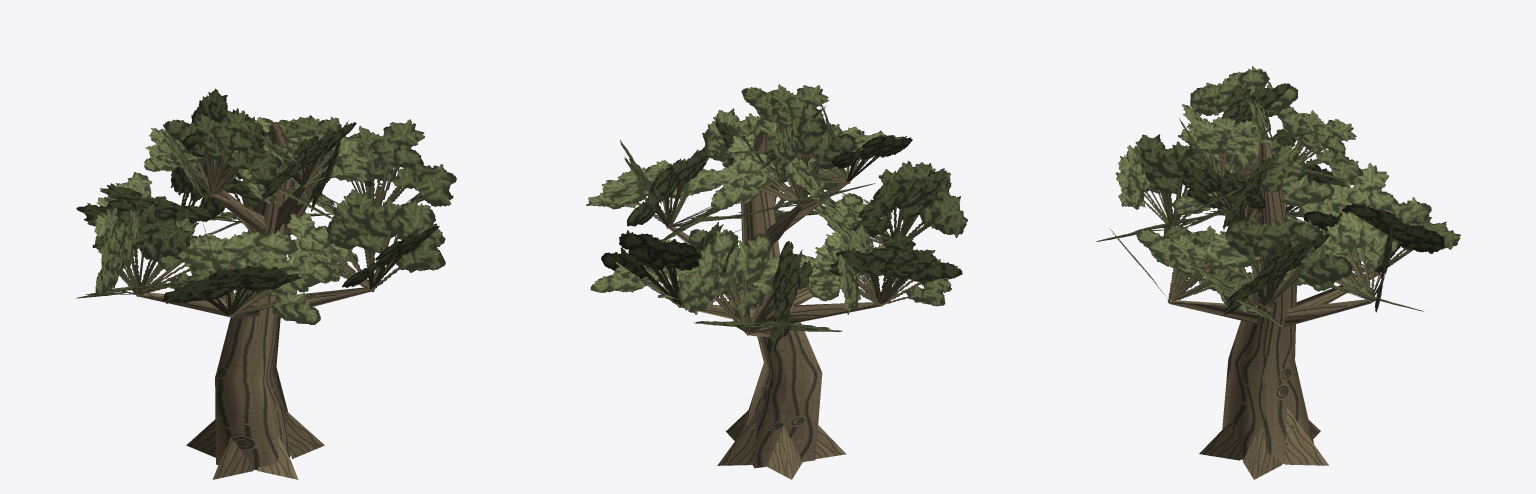
File: scrub-olive-mobile.glb
The picture shows the model from 3 angles, left to right: view 1: azimuth 30°, elevation 25°; view 2: azimuth 150°, elevation 25°; view 3: azimuth 270°, elevation 25°; orthographic projection. The views are drawn at different scales.
Visible parts, largest first — view 1: Scrub olive mobile v3 runtime; view 2: Scrub olive mobile v3 runtime; view 3: Scrub olive mobile v3 runtime.
Boxes of the visible parts, x1=… form: Scrub olive mobile v3 runtime: x1=76, y1=88, x2=456, y2=479; Scrub olive mobile v3 runtime: x1=586, y1=84, x2=967, y2=479; Scrub olive mobile v3 runtime: x1=1096, y1=66, x2=1460, y2=479.
Bounding box in the file's own units: 6.5 × 5.6 × 5.83.
Materials: 1 (1 with a texture image).
